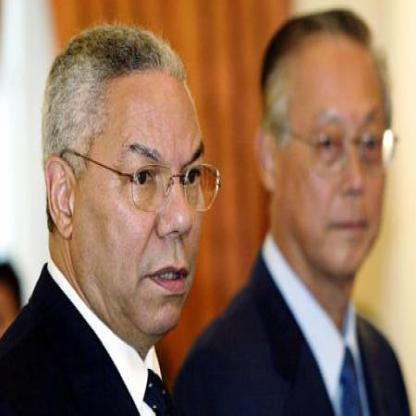face: (74, 40, 224, 344), (275, 17, 395, 282)
